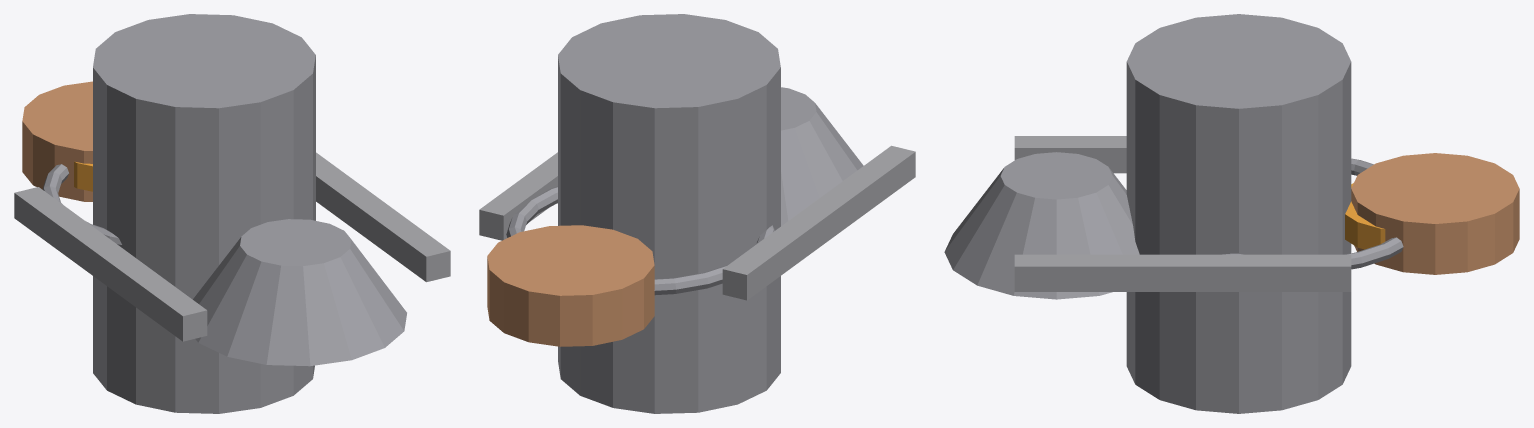
Rendered from bof_converter.glb.
3 renders of one model, left to right at view 1: azimuth 30°, elevation 25°; view 2: azimuth 150°, elevation 25°; view 3: azimuth 270°, elevation 25°, orthographic.
Parts seen in each view (by area): view 1: ConverterShell, ConverterBottom, Pillar_-5, Pillar_5, TopOpening, TrunnionRing, MoltenGlow; view 2: ConverterShell, TopOpening, Pillar_-5, ConverterBottom, Pillar_5, TrunnionRing; view 3: ConverterShell, ConverterBottom, TopOpening, Pillar_5, Pillar_-5, TrunnionRing, MoltenGlow.
Boxes of the visible parts, box(x1,y1,x2,y2) form: ConverterShell: box(93, 14, 315, 413); ConverterBottom: box(193, 219, 406, 366); Pillar_-5: box(14, 187, 207, 341); Pillar_5: box(316, 152, 450, 282); TopOpening: box(22, 81, 92, 201); TrunnionRing: box(42, 164, 121, 246); MoltenGlow: box(74, 161, 92, 191); ConverterShell: box(558, 14, 780, 413); TopOpening: box(487, 225, 654, 346); Pillar_-5: box(722, 145, 915, 300); ConverterBottom: box(781, 87, 863, 225); Pillar_5: box(479, 152, 557, 240); TrunnionRing: box(506, 186, 774, 295); ConverterShell: box(1126, 14, 1351, 413); ConverterBottom: box(944, 152, 1139, 299); TopOpening: box(1351, 153, 1519, 274); Pillar_5: box(1014, 254, 1351, 291); Pillar_-5: box(1014, 136, 1126, 173); TrunnionRing: box(1222, 158, 1403, 269); MoltenGlow: box(1345, 183, 1385, 249).
Size of the model in its own units: 11 by 12 by 20.5.
